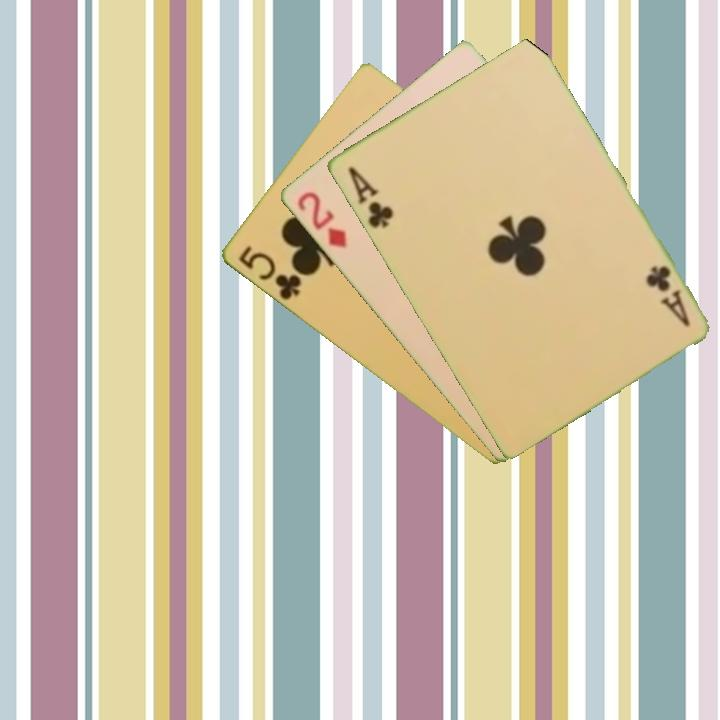2d: (292, 187, 349, 251)
5c: (234, 242, 304, 303)
Ac: (344, 163, 396, 232), (641, 261, 693, 330)
